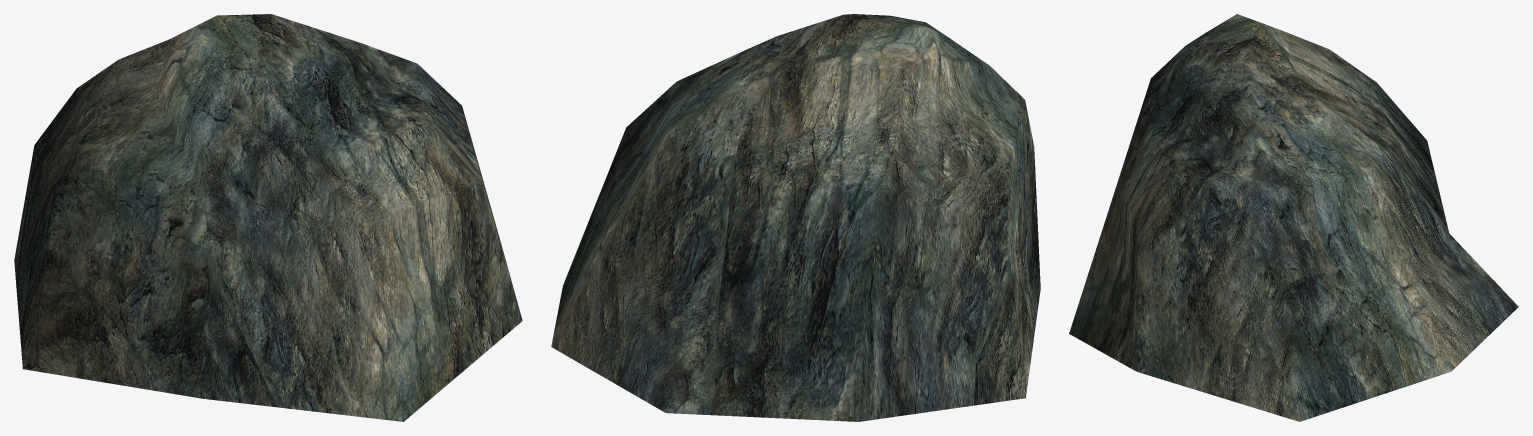
The model's file is mound_light_med.fbx.
The picture shows the model from 3 angles, left to right: view 1: azimuth 30°, elevation 25°; view 2: azimuth 150°, elevation 25°; view 3: azimuth 270°, elevation 25°; orthographic projection. The views are drawn at different scales.
Parts seen in each view (by area): view 1: lod_high; view 2: lod_high; view 3: lod_high.
Boxes of the visible parts, <box> form: lod_high: <box>14,14,522,421</box>; lod_high: <box>551,14,1040,421</box>; lod_high: <box>1069,14,1518,421</box>.
Size of the model in its own units: 15562 by 10493 by 15161.
Materials: 1 (1 with a texture image).
